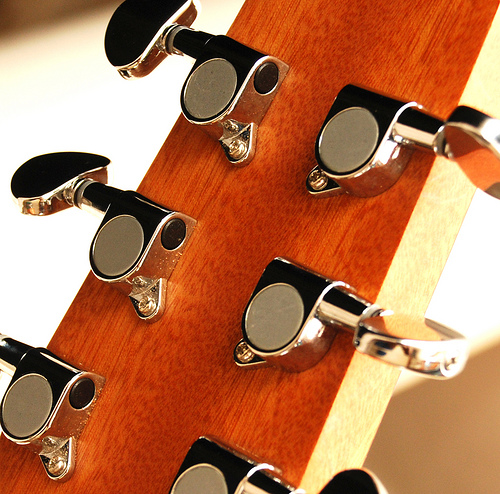guitar: (1, 1, 500, 494)
